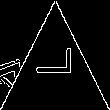L_W: (33, 58, 77, 89)
